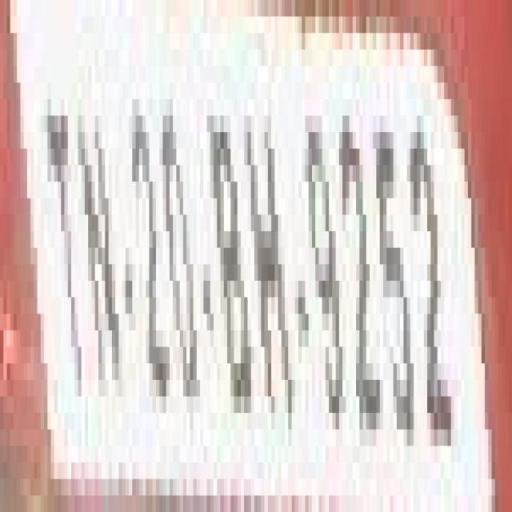number plate: (0, 16, 485, 496)
